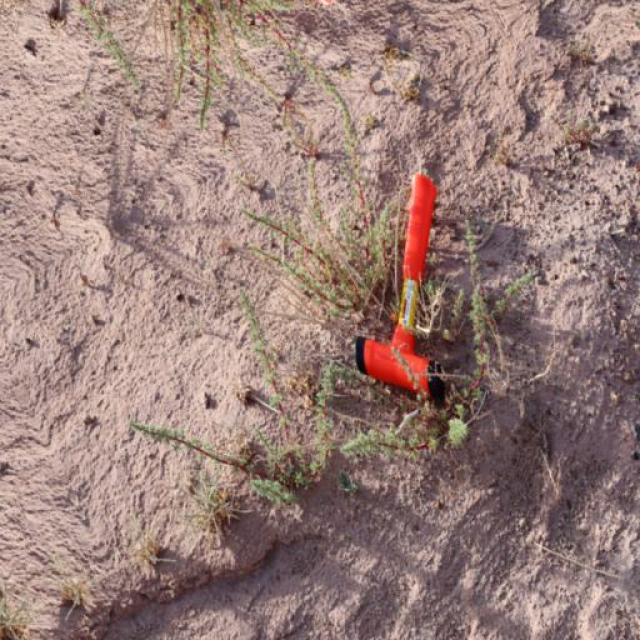mallet: (354, 170, 445, 401)
